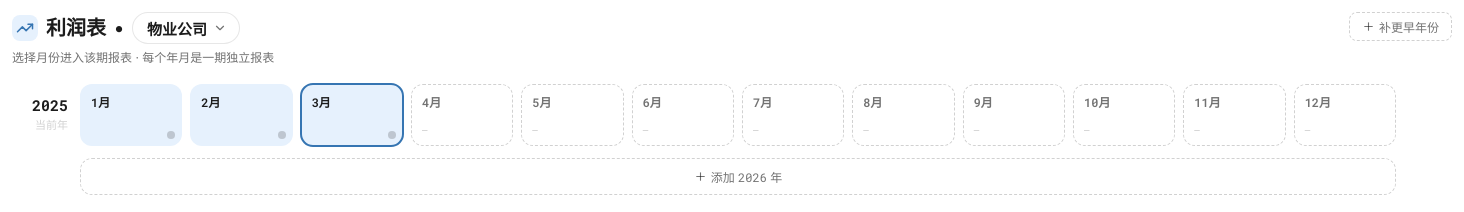
Test: 三大报表工作台 · 利润表 › 下拉第一项是「全部汇总 N 家」，其余是各公司；默认选中第一家而非汇总
The image size is (1464, 212).
Click the button with class "fcm-btn" at x=186, y=28, box [132,12,240,44]
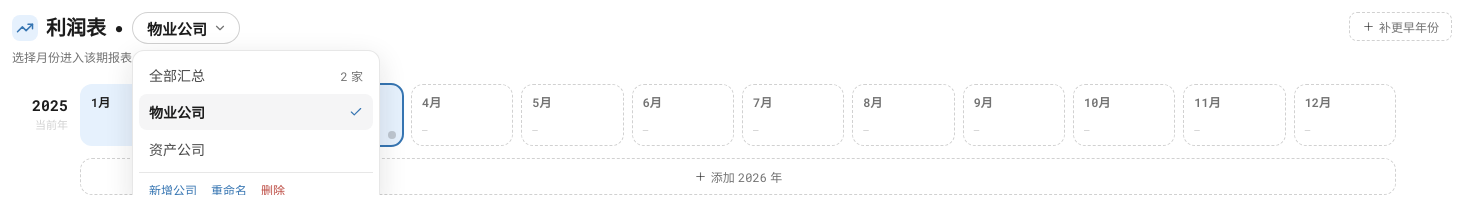
expect the icon with class "fcm-ck" is shown: met, box [349,105,363,119]
